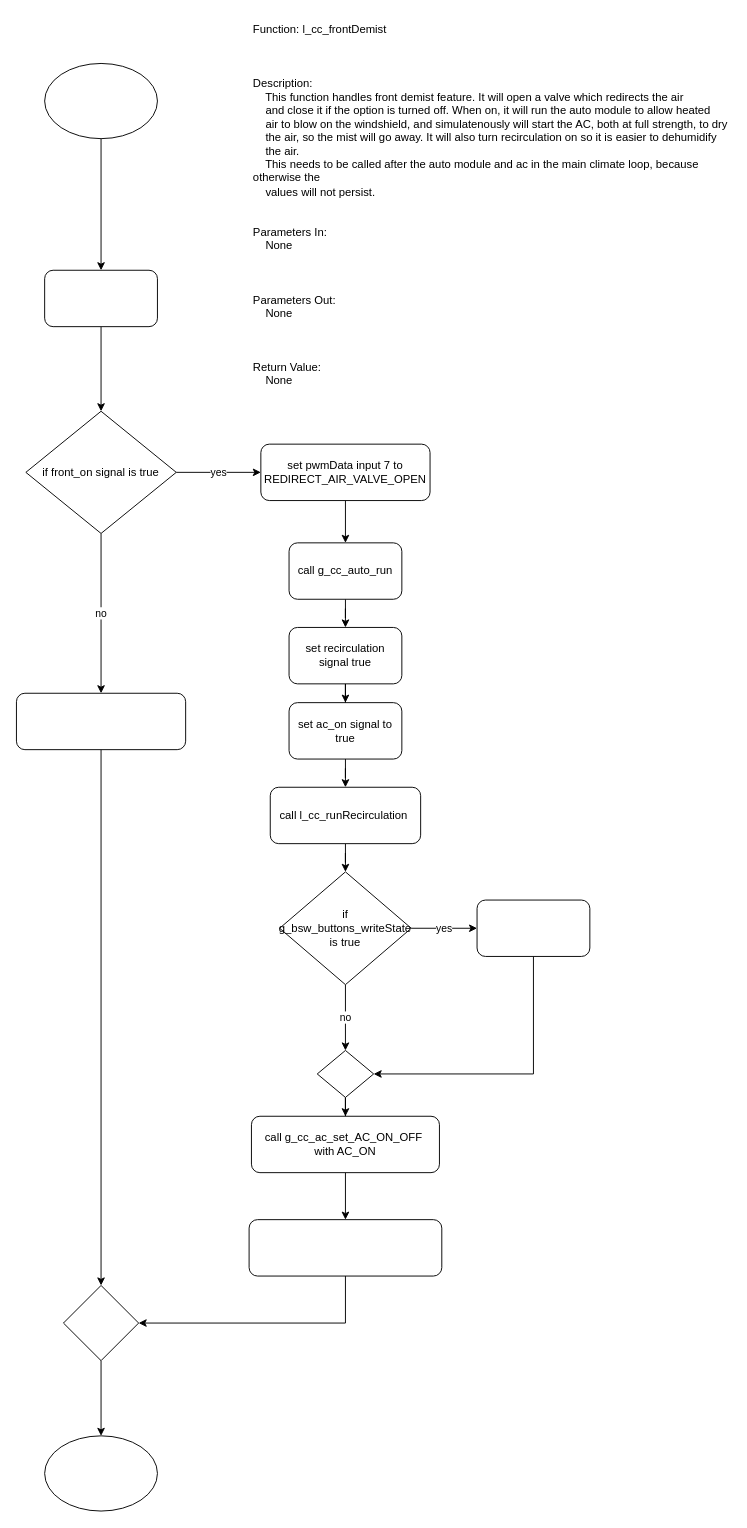
The diagram is 747 pixels wide and 1528 high, and some of its shapes have lost their labels. The centre of each missing label's shape, as x and y in pixels:
"call g_cc_ac_startAC DEFROST_FAN_SPEED and AUTO_OFF" goes at point 345,1247.
"call l_cc_frontDemist" goes at point 100,298.
"print error to stderr" goes at point 533,927.
"set pwmData input 7 to REDIRECT_AIR_VALVE_CLOSE" goes at point 101,721.
